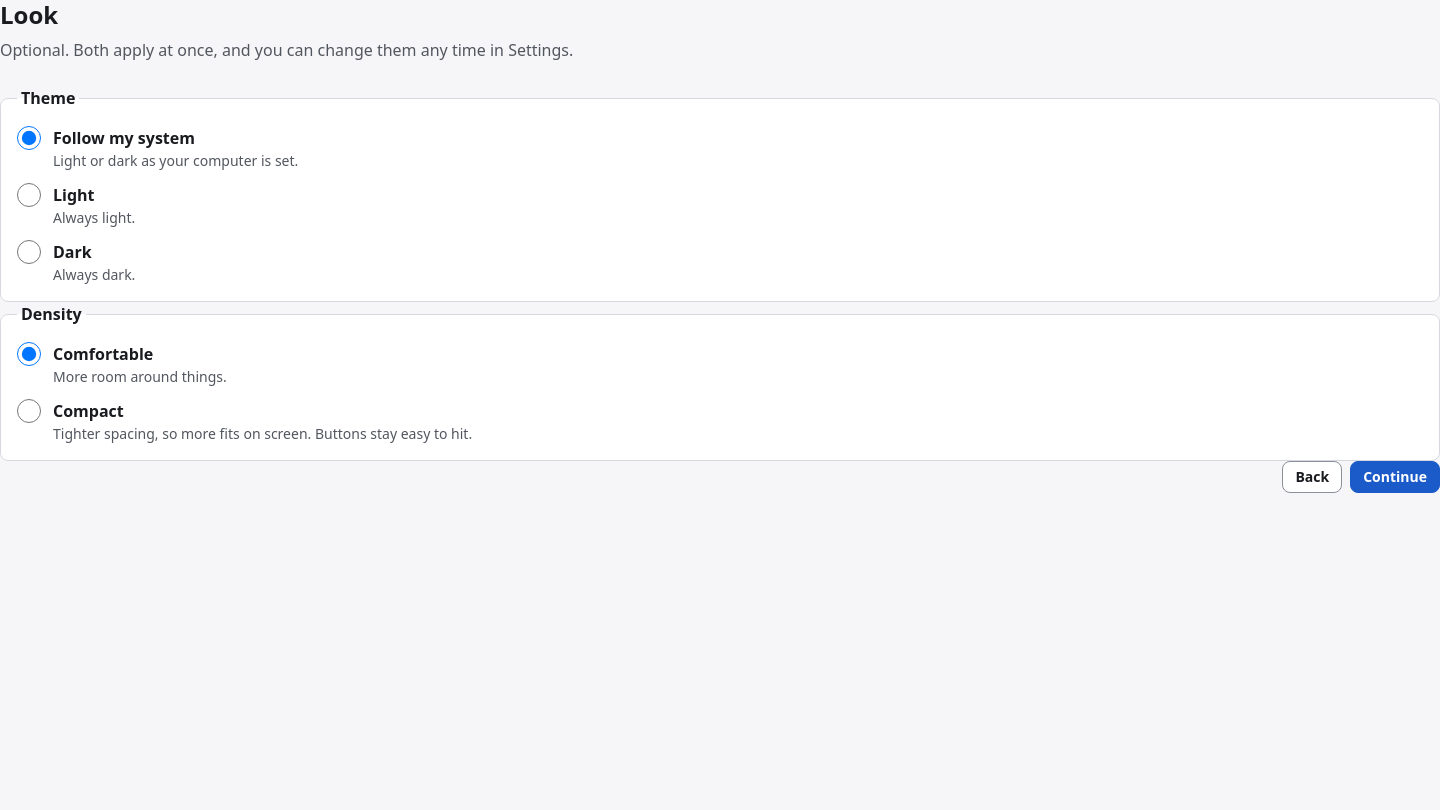
Test: look step › applies a theme at once and keeps it in the settings
Click the radio button labelled "Dark Always dark." at [29, 252], box top-left (17, 240), bottom-right (41, 264)
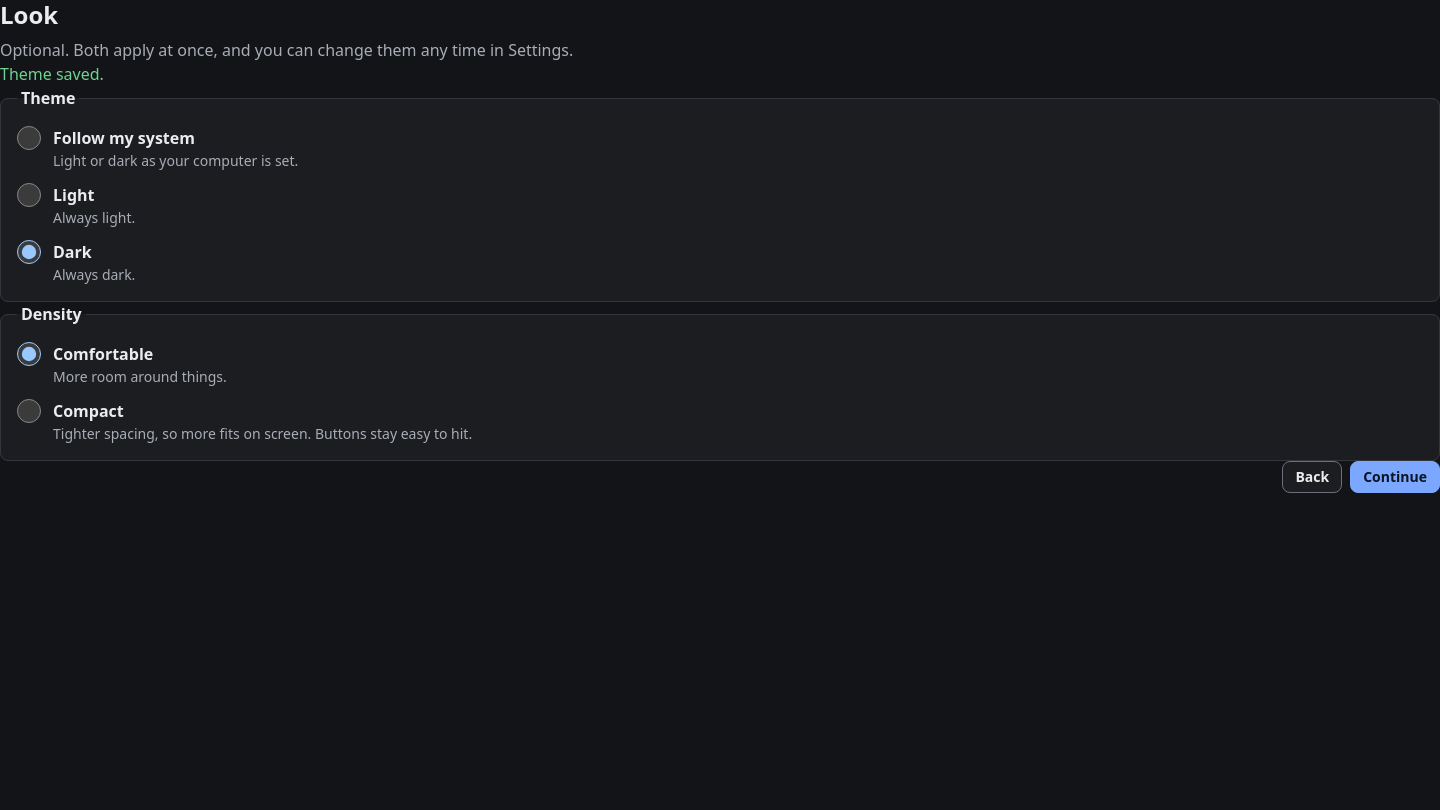
Expected: the text "Theme saved." is shown, top-left (0, 63), bottom-right (104, 85)
